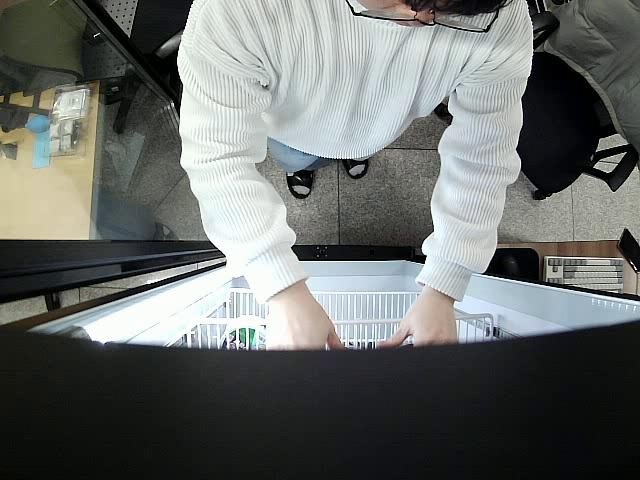00_hand: (377, 299, 458, 347)
